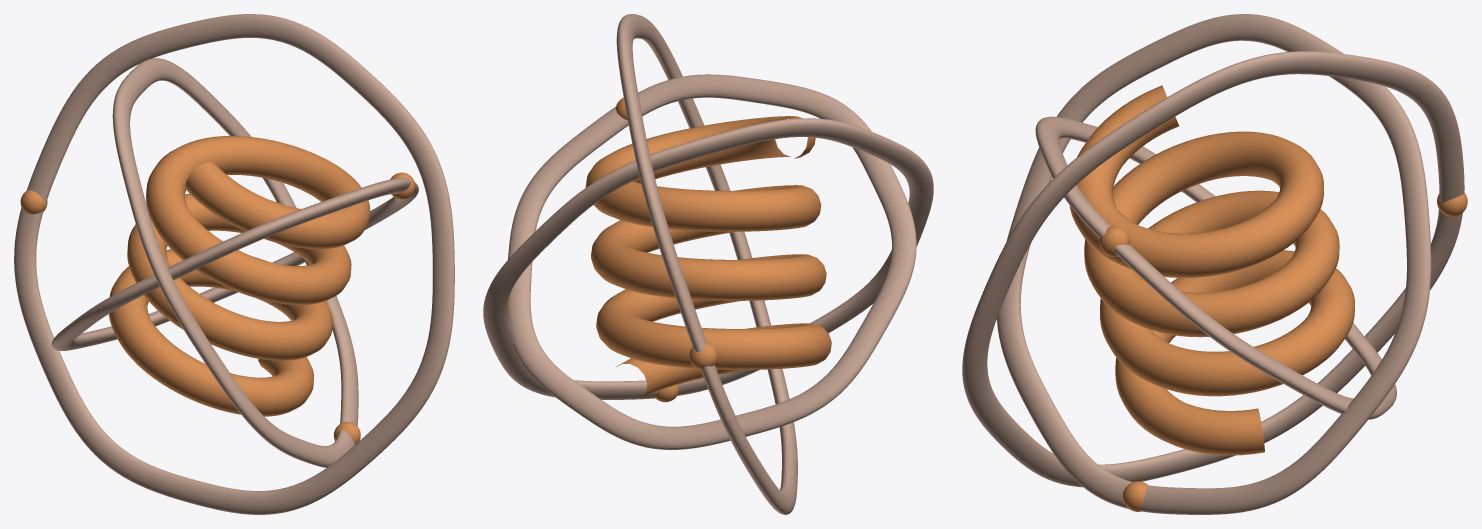
The picture shows the model from 3 angles, left to right: view 1: azimuth 30°, elevation 25°; view 2: azimuth 150°, elevation 25°; view 3: azimuth 270°, elevation 25°; orthographic projection. The views are drawn at different scales.
Size of the model in its own units: 0.9545 by 1.13 by 1.07.
